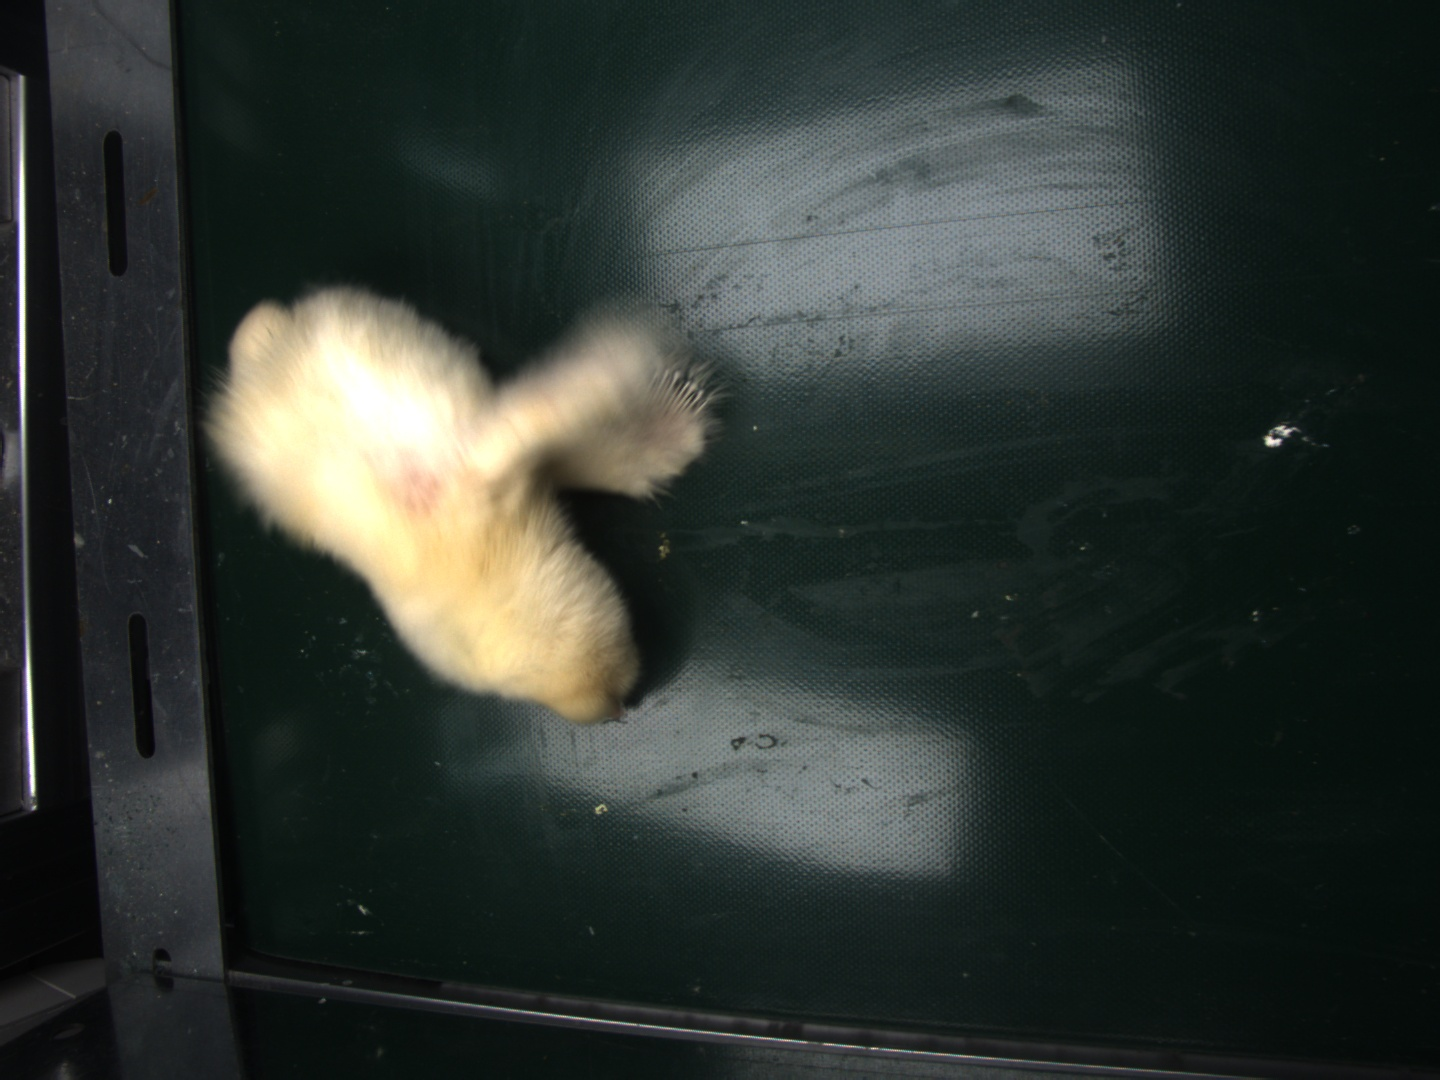male: (651, 365, 714, 419)
